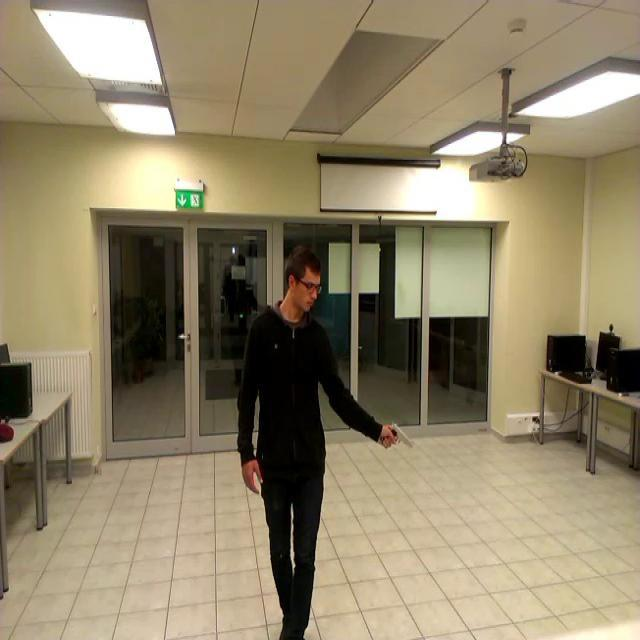weapon: (379, 423, 414, 450)
